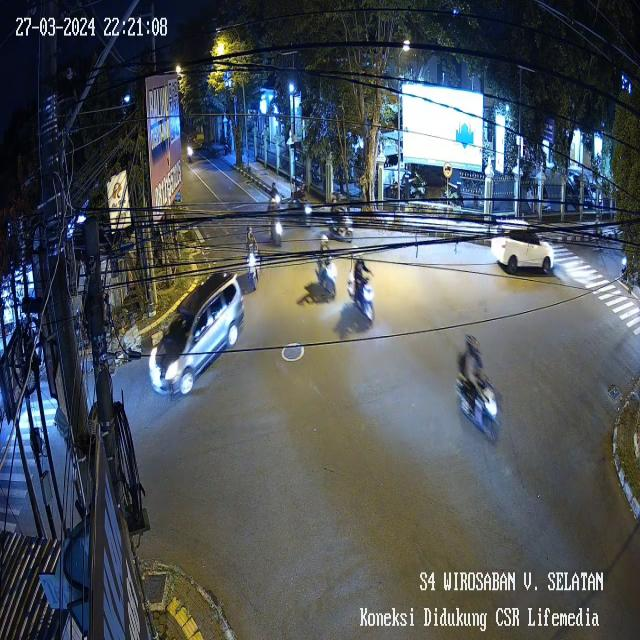car: (150, 266, 244, 401), (492, 212, 559, 282)
motorcycle: (459, 328, 503, 451), (347, 252, 379, 330), (313, 231, 343, 312), (324, 188, 360, 246), (241, 221, 266, 291), (286, 186, 314, 233), (268, 209, 286, 253), (269, 173, 284, 216), (621, 248, 634, 287)
